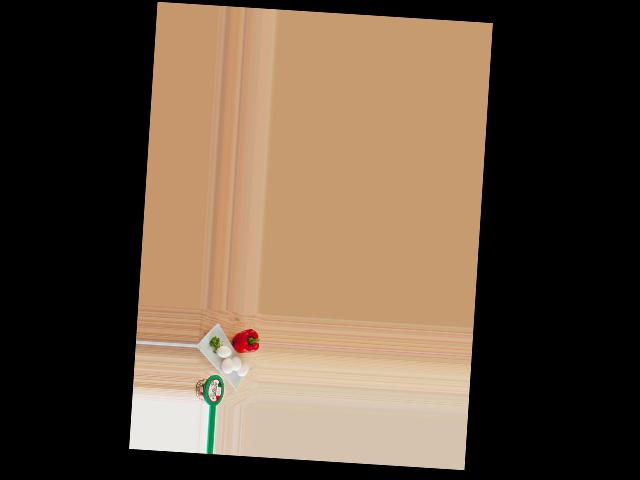bell_pepper: (232, 326, 259, 358)
